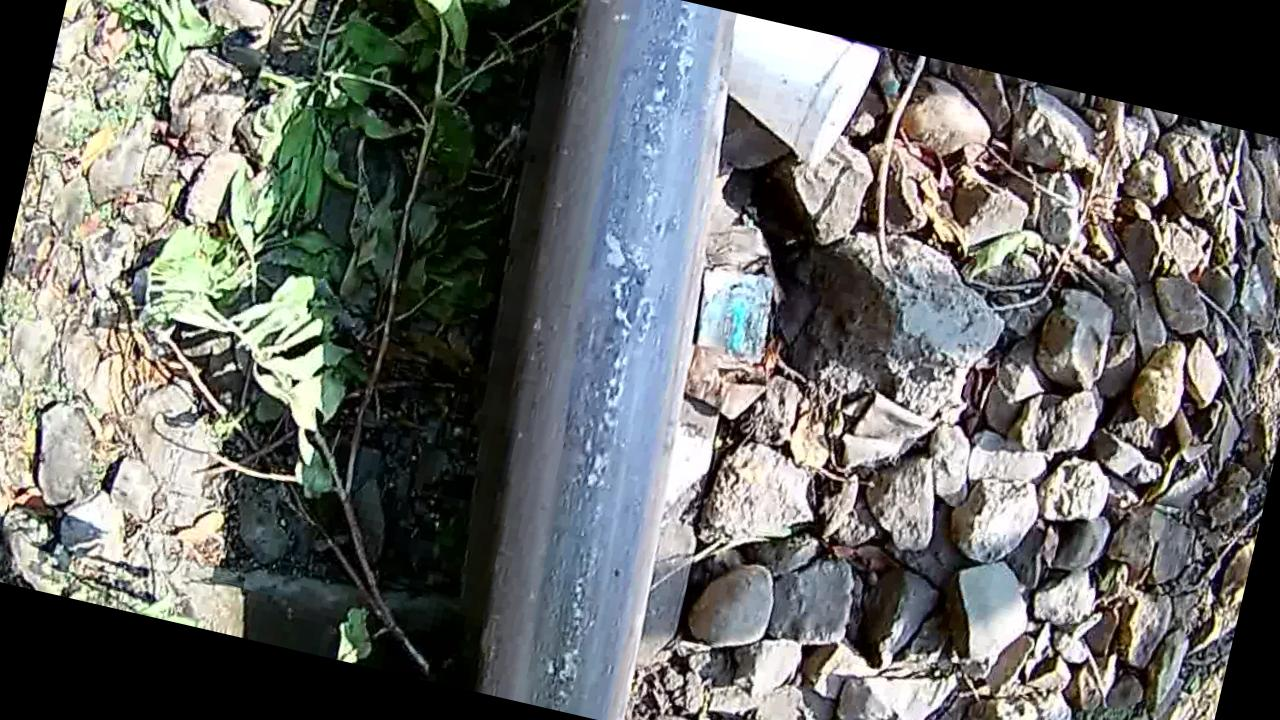crack: (426, 0, 779, 720)
